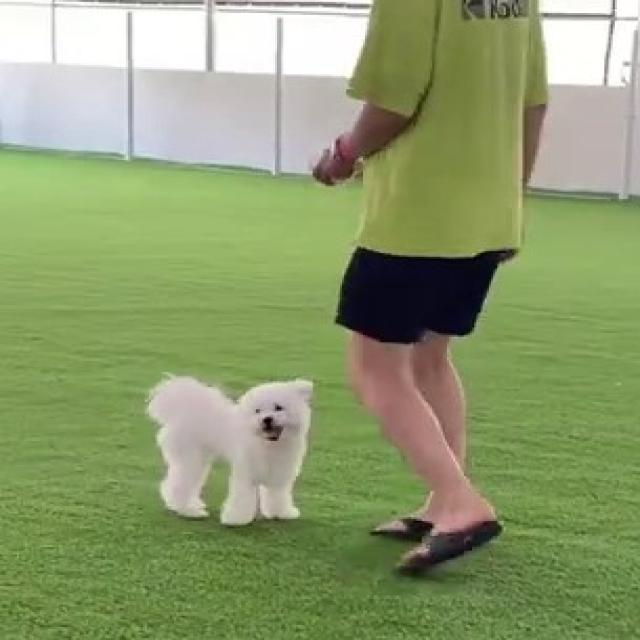Unleashed_Dog: (148, 372, 505, 579)
